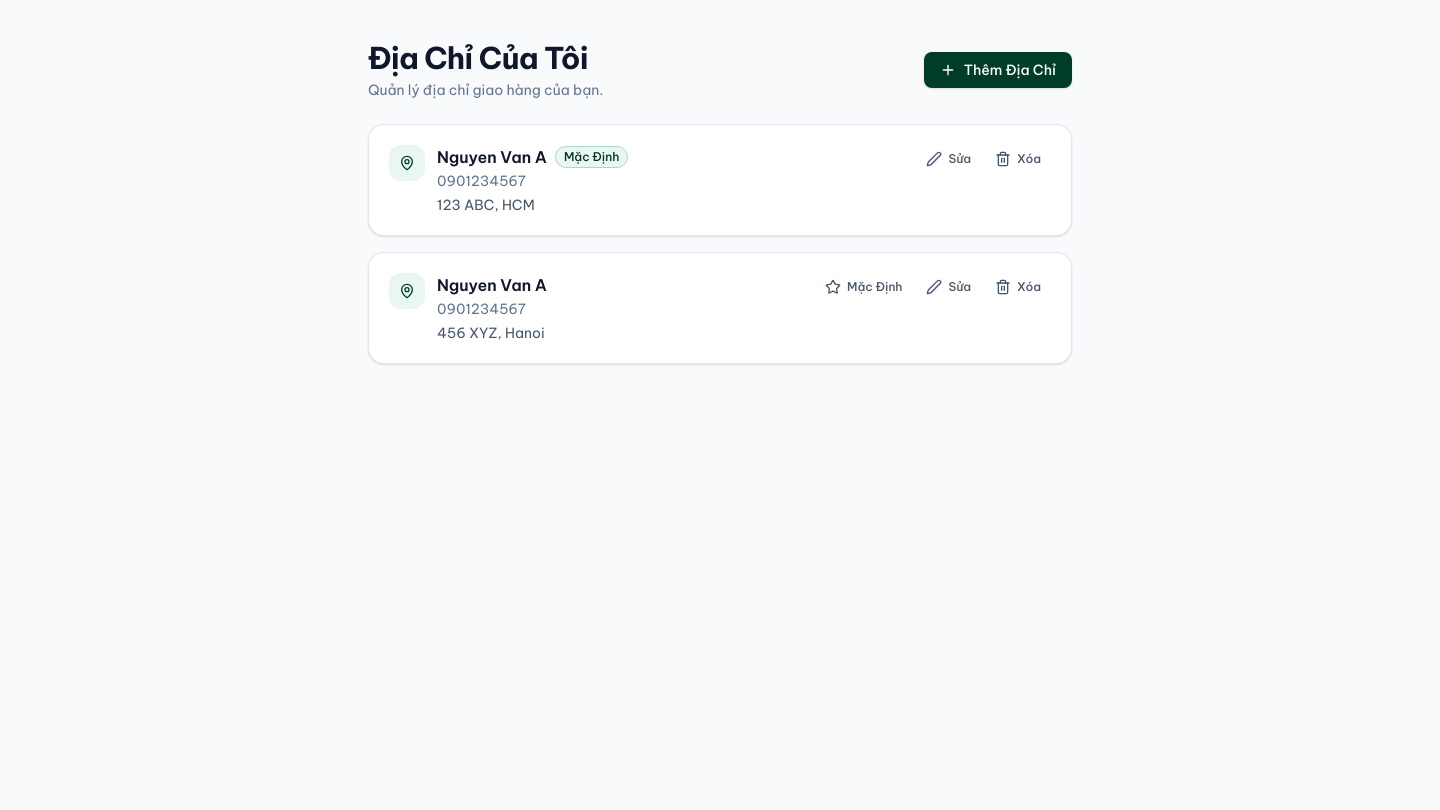
Test case: AddressesPage › deletes an address via the confirmation modal
Click the 1st button titled "Xóa". click: (1018, 159)
box: [985, 145, 1051, 173]
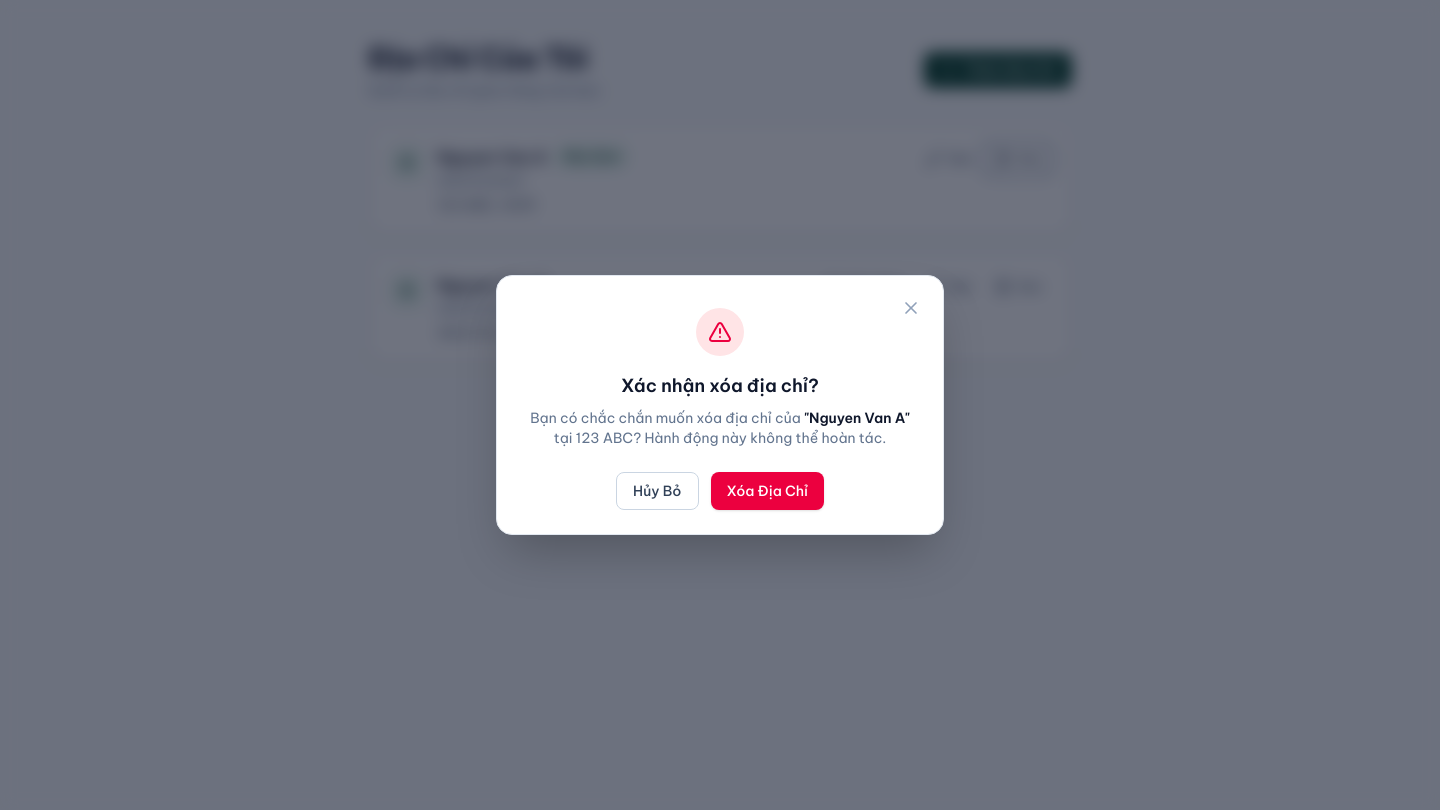
Click the button "Xóa Địa Chỉ". click: (767, 491)
box: [710, 472, 824, 510]
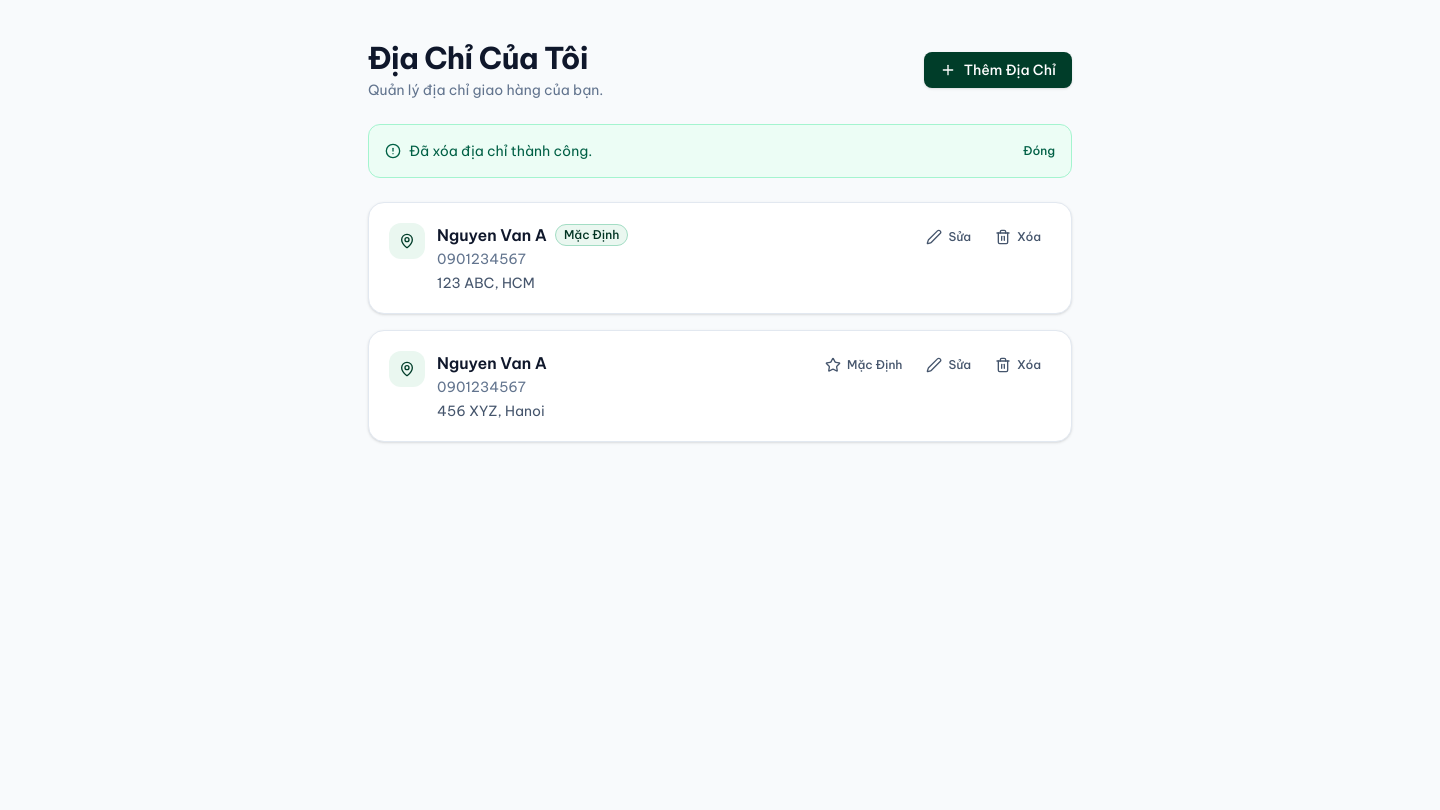
Now the text "Đã xóa địa chỉ thành công." is shown, box [409, 141, 592, 161]
